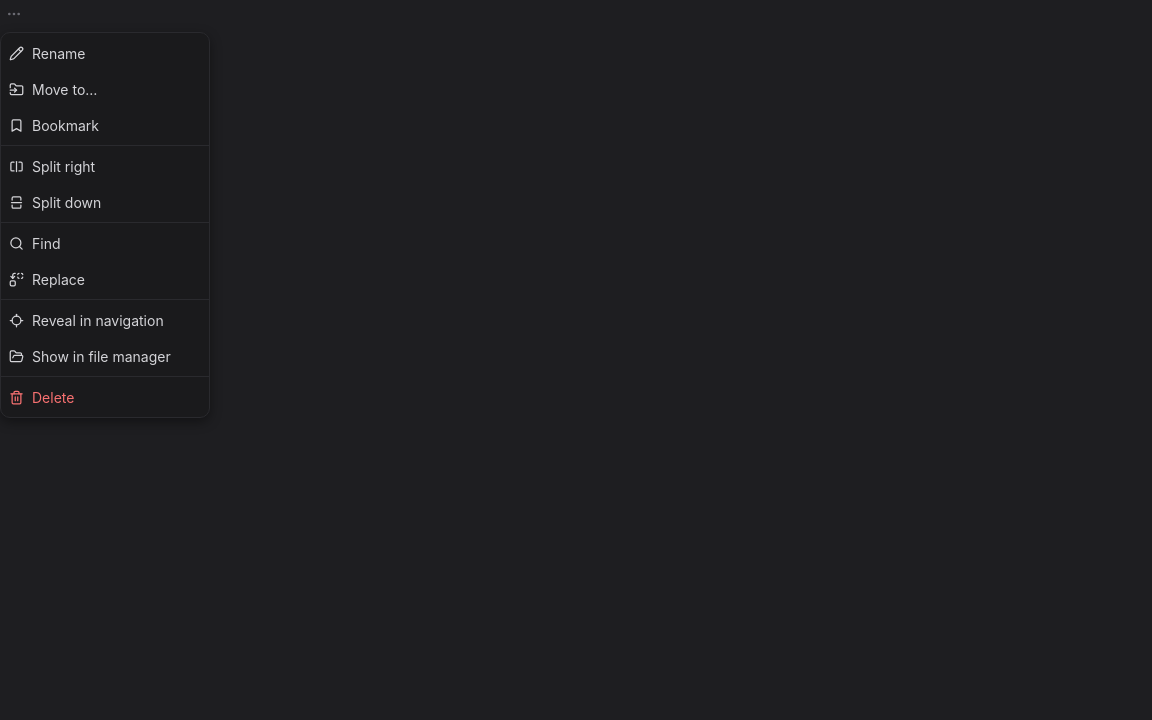
Test: <NoteOptionsMenu /> › Delete opens the shared delete-confirm dialog
The image size is (1152, 720).
Click the menu item "Delete" at (42, 397), box [9,388,74,406]
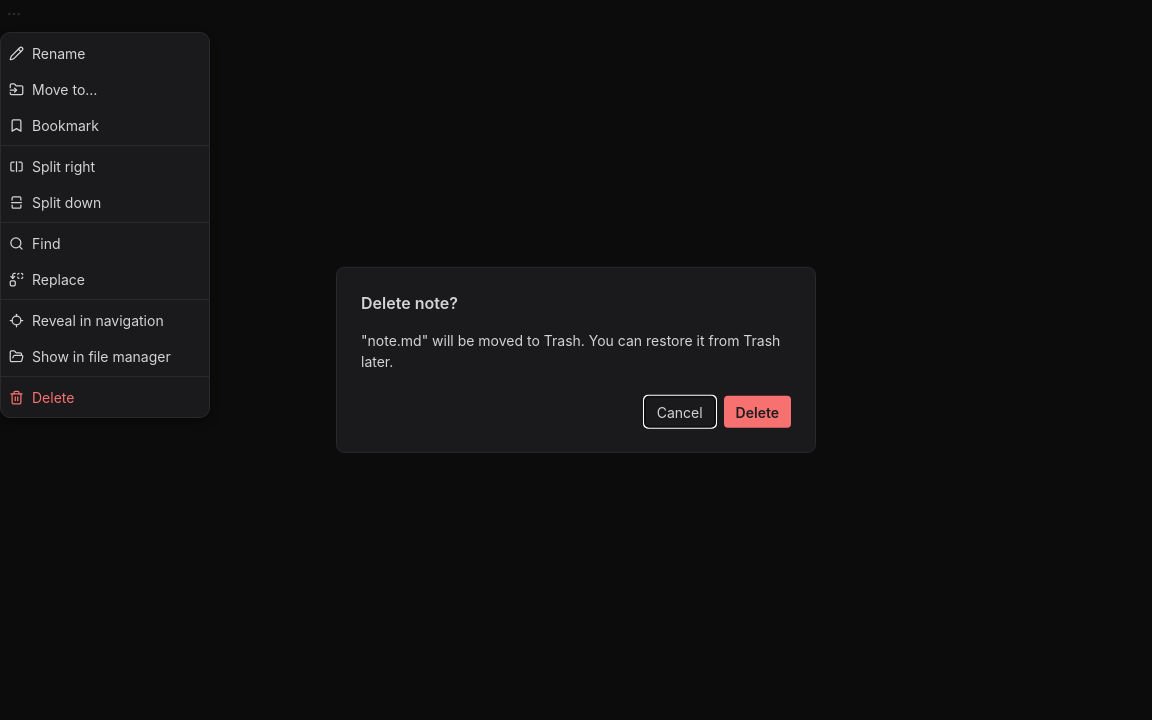
Check: the heading "Delete note?" is shown, box [361,293,458,313]
